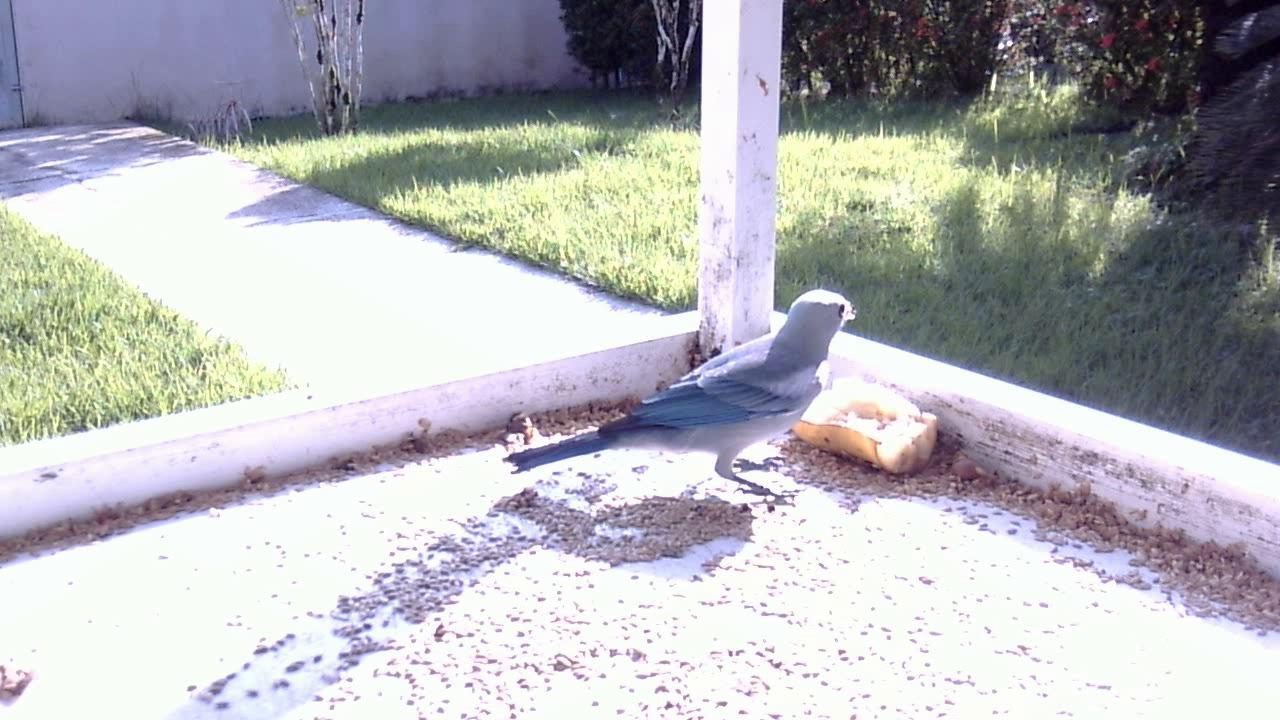sanhaco_da_amazonia: (506, 282, 862, 518)
